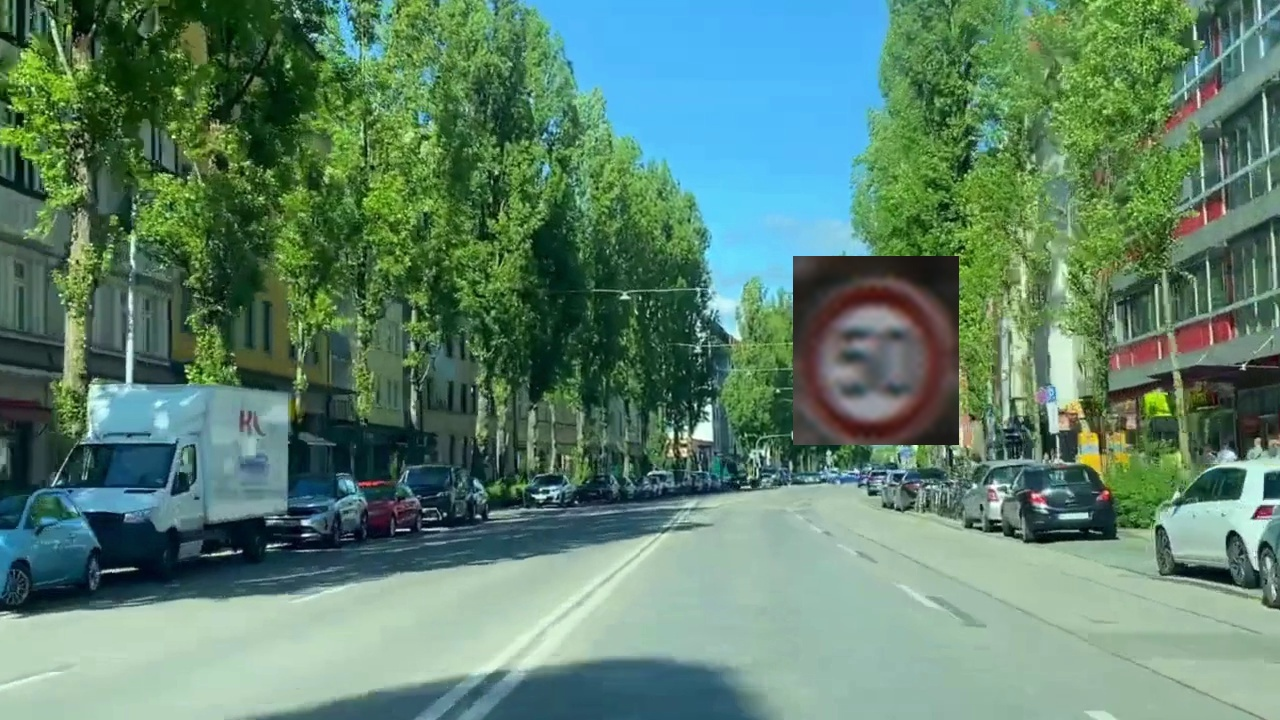Speed 50: (793, 256, 959, 445)
